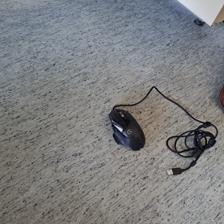mouse: (107, 107, 146, 150)
